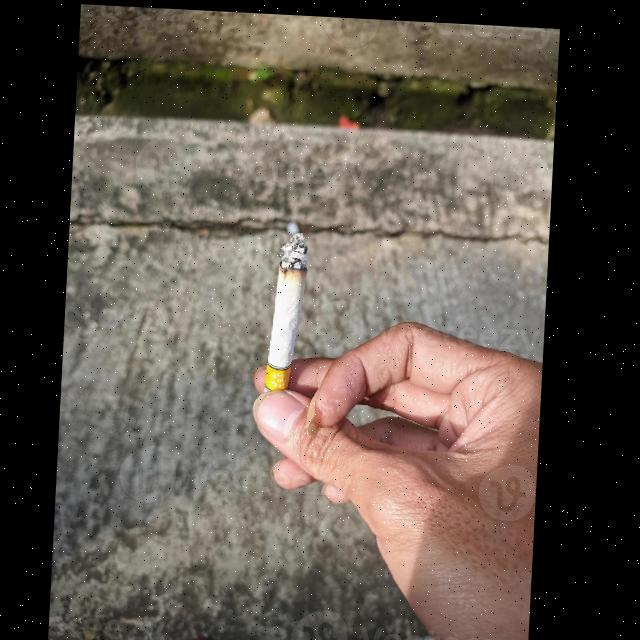cigarette: (266, 227, 312, 392)
